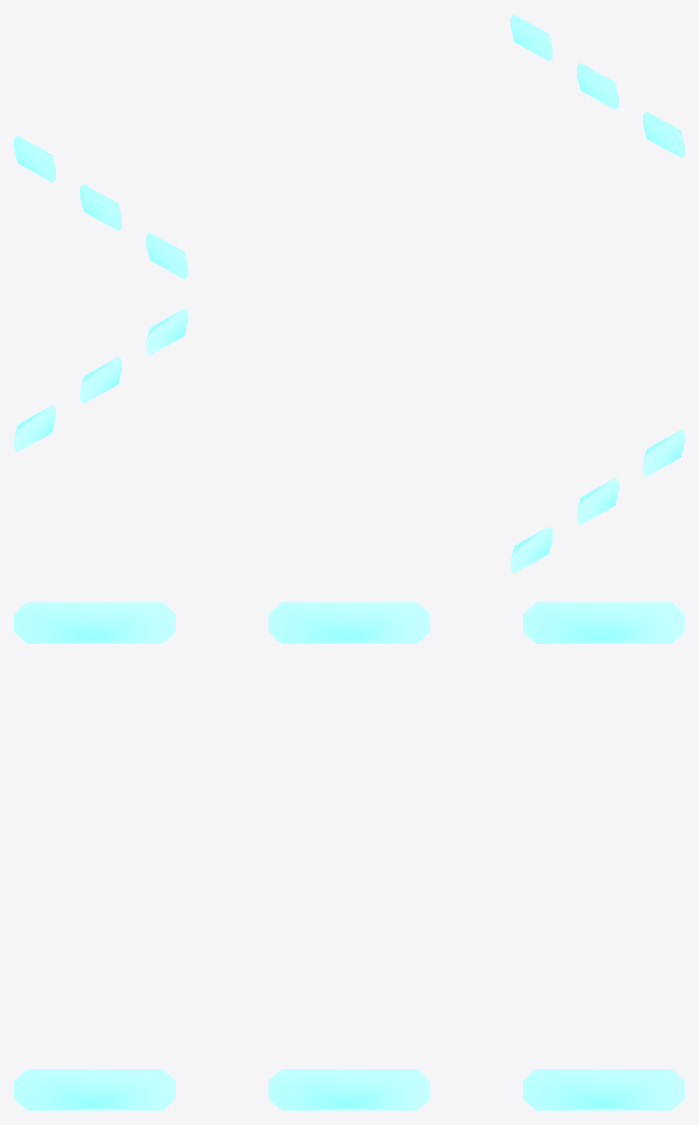
Rendered from Estela_BotaIzq_Neon.fbx.
3 renders of one model, top to bottom at view 1: azimuth 30°, elevation 25°; view 2: azimuth 150°, elevation 25°; view 3: azimuth 270°, elevation 25°, orthographic. The views are drawn at different scales.
Visible parts, largest first — view 1: Estela_BotaIzq_Neon; view 2: Estela_BotaIzq_Neon; view 3: Estela_BotaIzq_Neon.
Boxes of the visible parts, x1,y1,x2,y2 form: Estela_BotaIzq_Neon: (14, 14, 684, 279); Estela_BotaIzq_Neon: (14, 308, 684, 573); Estela_BotaIzq_Neon: (14, 602, 684, 1110).
Size of the model in its own units: 1.28 by 0.05 by 0.7258.
